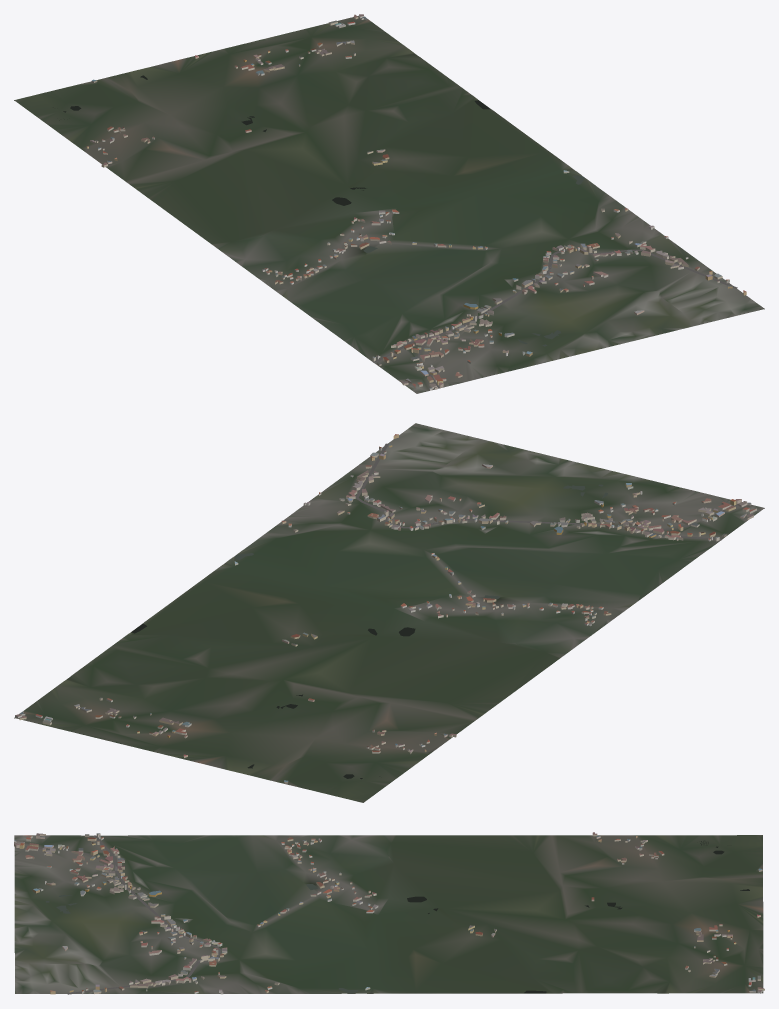
The picture shows the model from 3 angles, top to bottom: view 1: azimuth 30°, elevation 25°; view 2: azimuth 150°, elevation 25°; view 3: azimuth 270°, elevation 25°; orthographic projection. The views are drawn at different scales.
Parts seen in each view (by area): view 1: ground, buildings, roads, water; view 2: ground, buildings, roads, water; view 3: ground, buildings, roads, water.
Part boxes in pixels (bbox=[...]): ground: bbox=[14, 15, 764, 393]; buildings: bbox=[86, 14, 746, 390]; roads: bbox=[373, 249, 737, 388]; water: bbox=[53, 75, 584, 346]; ground: bbox=[14, 423, 764, 802]; buildings: bbox=[15, 434, 756, 783]; roads: bbox=[355, 443, 738, 540]; water: bbox=[131, 484, 607, 779]; ground: bbox=[14, 835, 763, 993]; buildings: bbox=[14, 832, 764, 994]; roads: bbox=[24, 835, 221, 994]; water: bbox=[45, 840, 749, 993].
Size of the model in its own units: 1423 by 25.24 by 2813.
